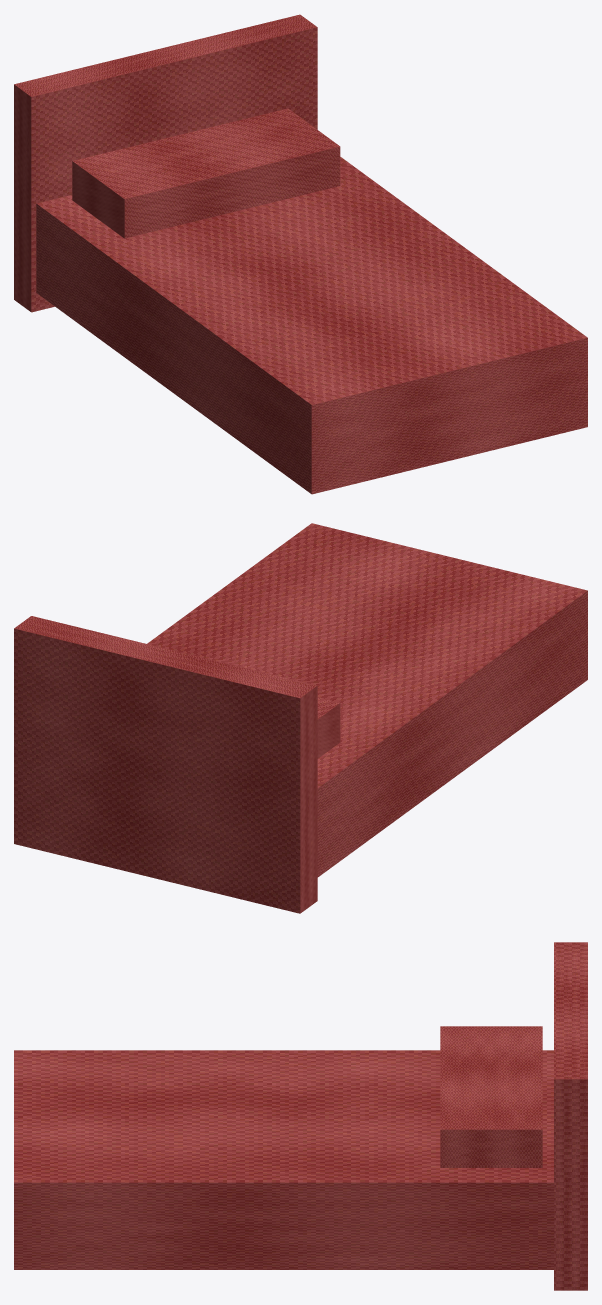
File: cama_simples.glb
3 renders of one model, top to bottom at view 1: azimuth 30°, elevation 25°; view 2: azimuth 150°, elevation 25°; view 3: azimuth 270°, elevation 25°, orthographic. The views are drawn at different scales.
Visible parts, largest first — view 1: cama_simples; view 2: cama_simples; view 3: cama_simples.
Boxes of the visible parts, box(x1,y1,x2,y2) form: cama_simples: box(14, 14, 587, 494); cama_simples: box(14, 523, 587, 913); cama_simples: box(14, 942, 587, 1290).
Size of the model in its own units: 1.14 by 0.82 by 2.02.
1 material, 1 textured.
